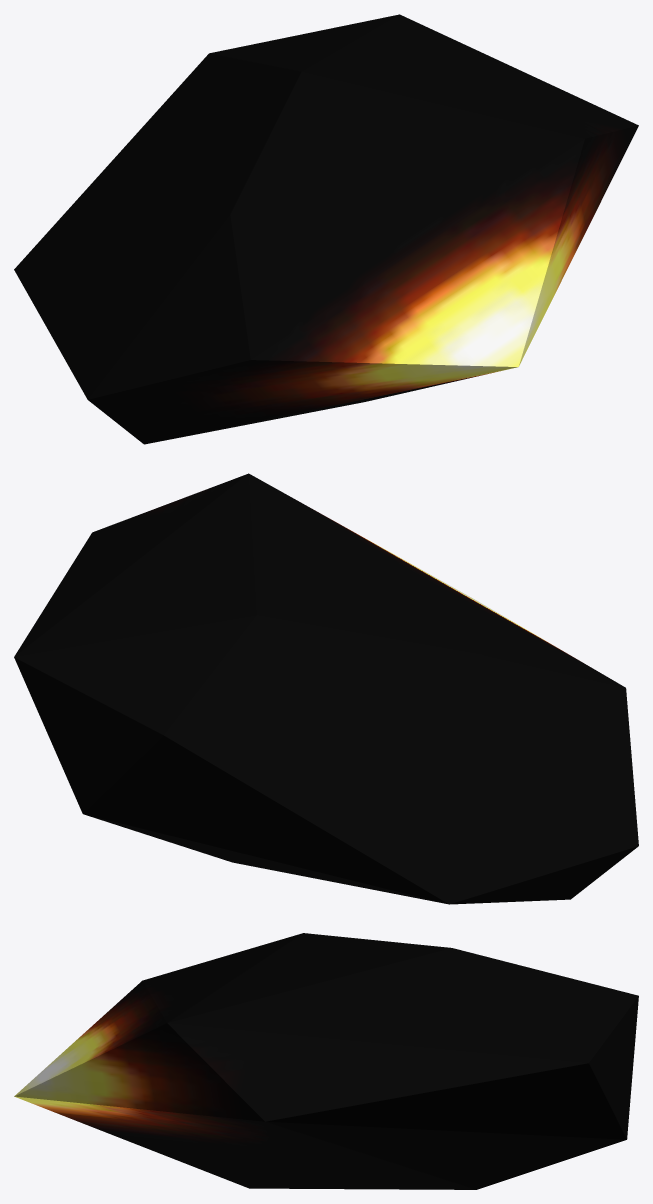
The model's file is 0420_shitou2.glb.
The picture shows the model from 3 angles, top to bottom: view 1: azimuth 30°, elevation 25°; view 2: azimuth 150°, elevation 25°; view 3: azimuth 270°, elevation 25°; orthographic projection. The views are drawn at different scales.
Bounding box in the file's own units: 2.2 × 1.04 × 2.15.
1 material, 1 textured.
